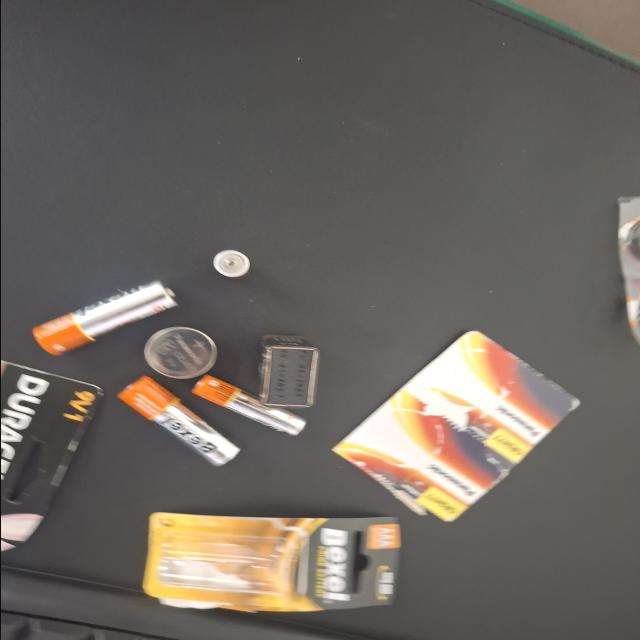9V: (232, 241, 330, 286)
AA: (288, 300, 408, 392), (160, 348, 260, 456)
AAA: (286, 252, 366, 336), (120, 293, 158, 321)
COIN: (222, 318, 292, 372)
